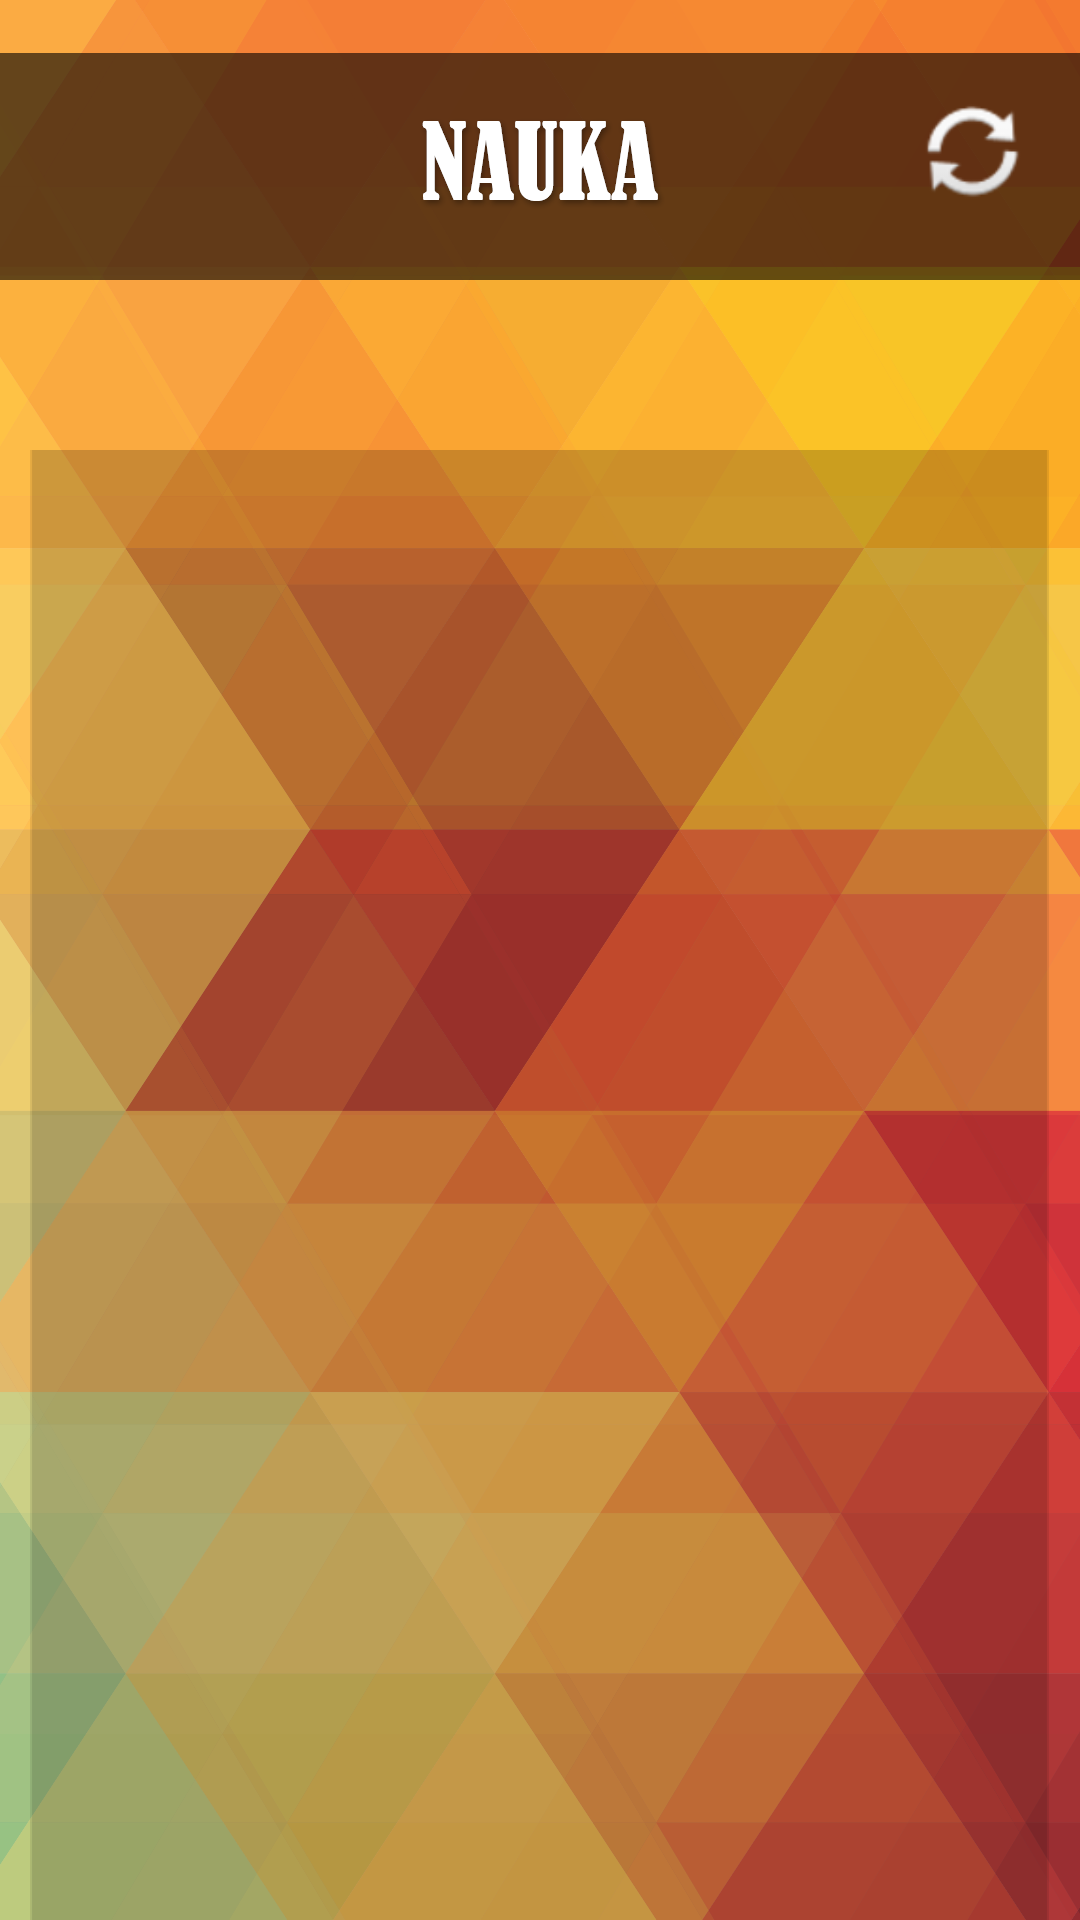

Icon bounding boxes for this 1080 x 1920 phone screenshot, format {"x1": x1, "y1": y1, "x2": x2, "y2": y2}:
popup sync: {"x1": 927, "y1": 106, "x2": 1019, "y2": 197}
